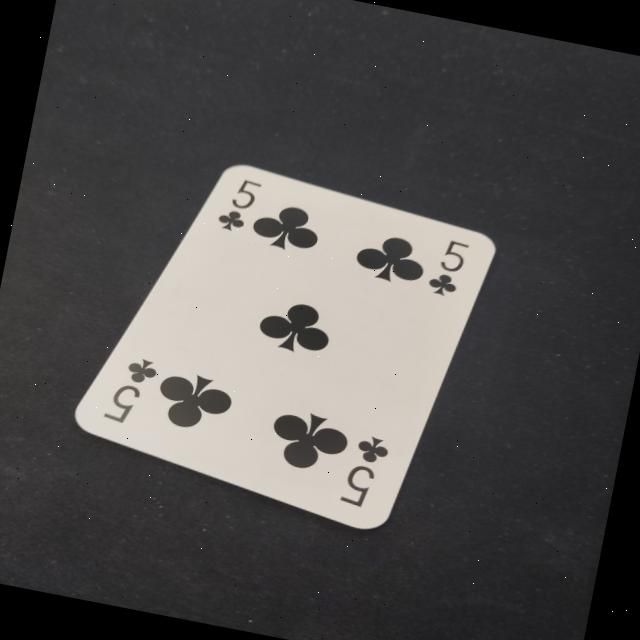5c: (92, 342, 166, 434), (332, 423, 397, 517), (209, 170, 267, 243), (424, 233, 479, 306)
